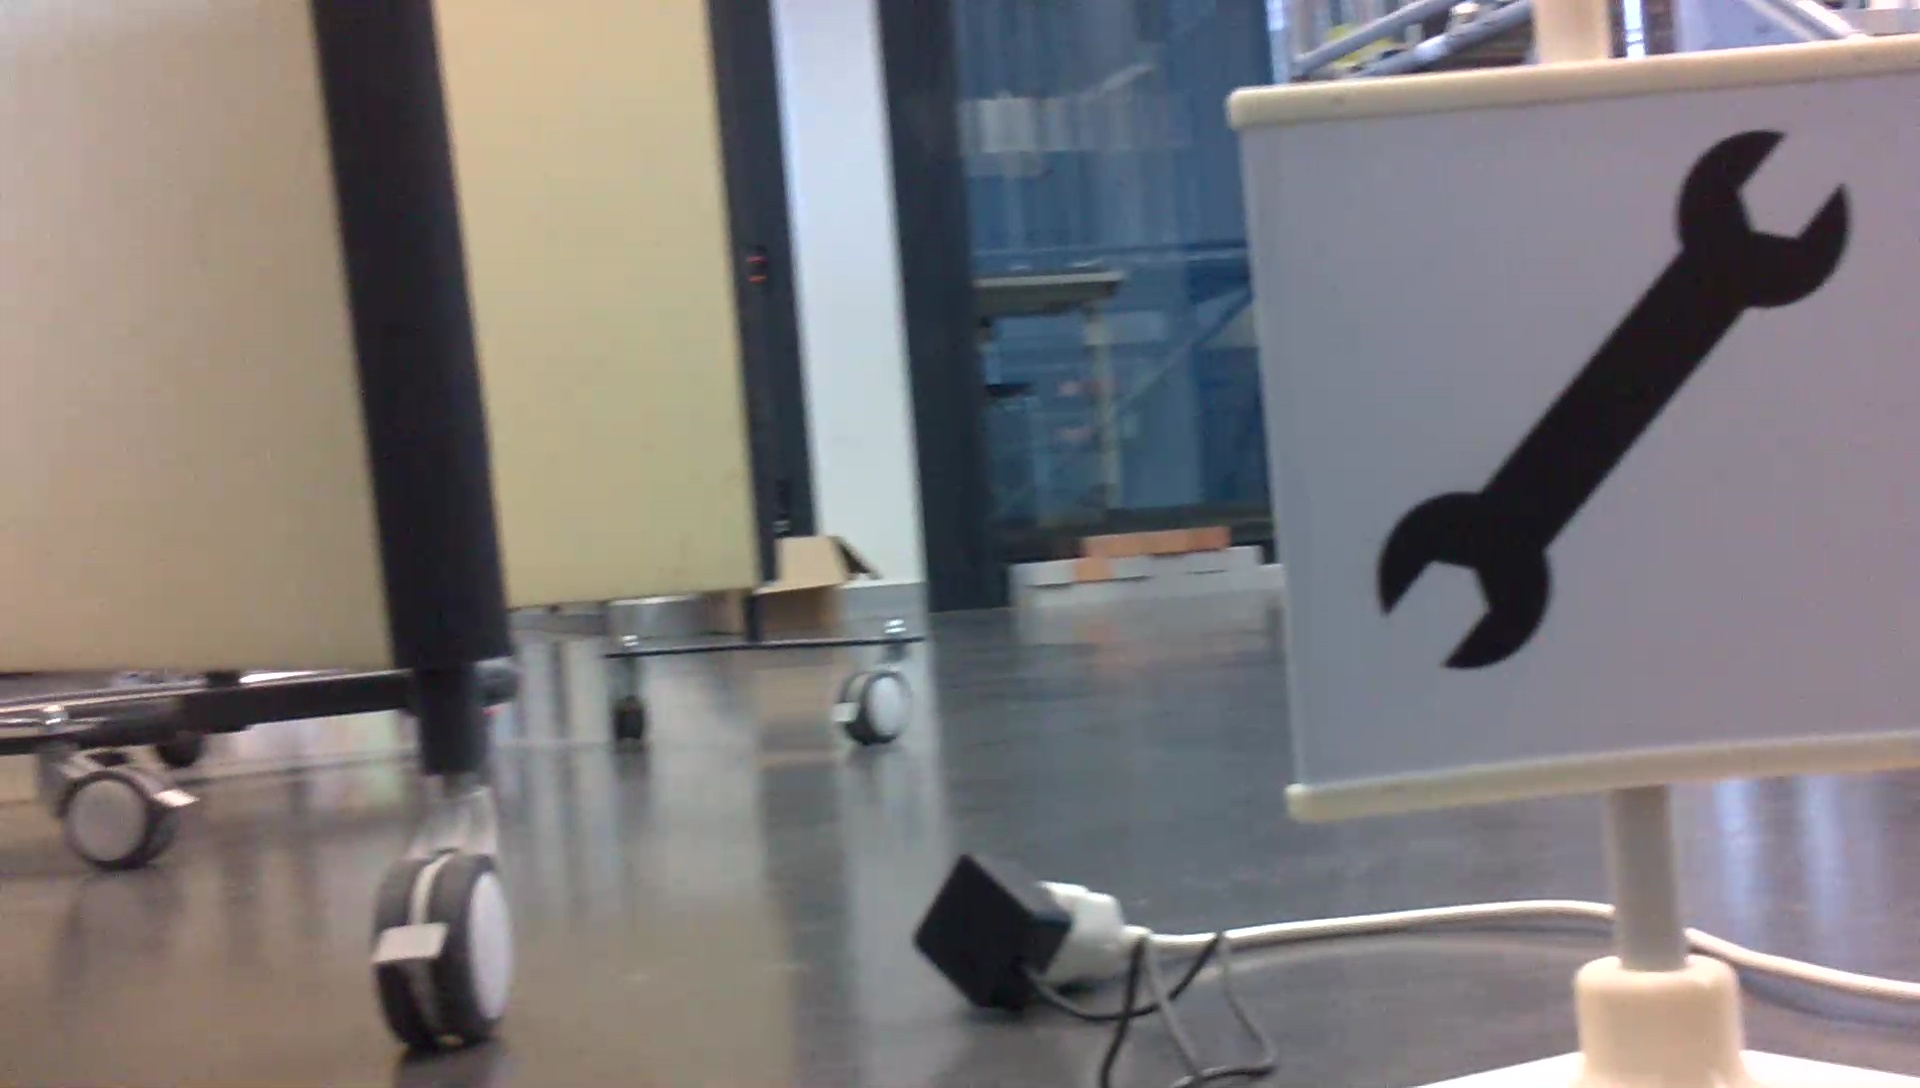wrench: (1360, 117, 1865, 678)
